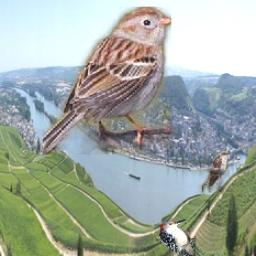Cuckoo: (197, 151, 230, 193)
Sparrow: (44, 7, 172, 154)
Woodpecker: (158, 220, 196, 256)
